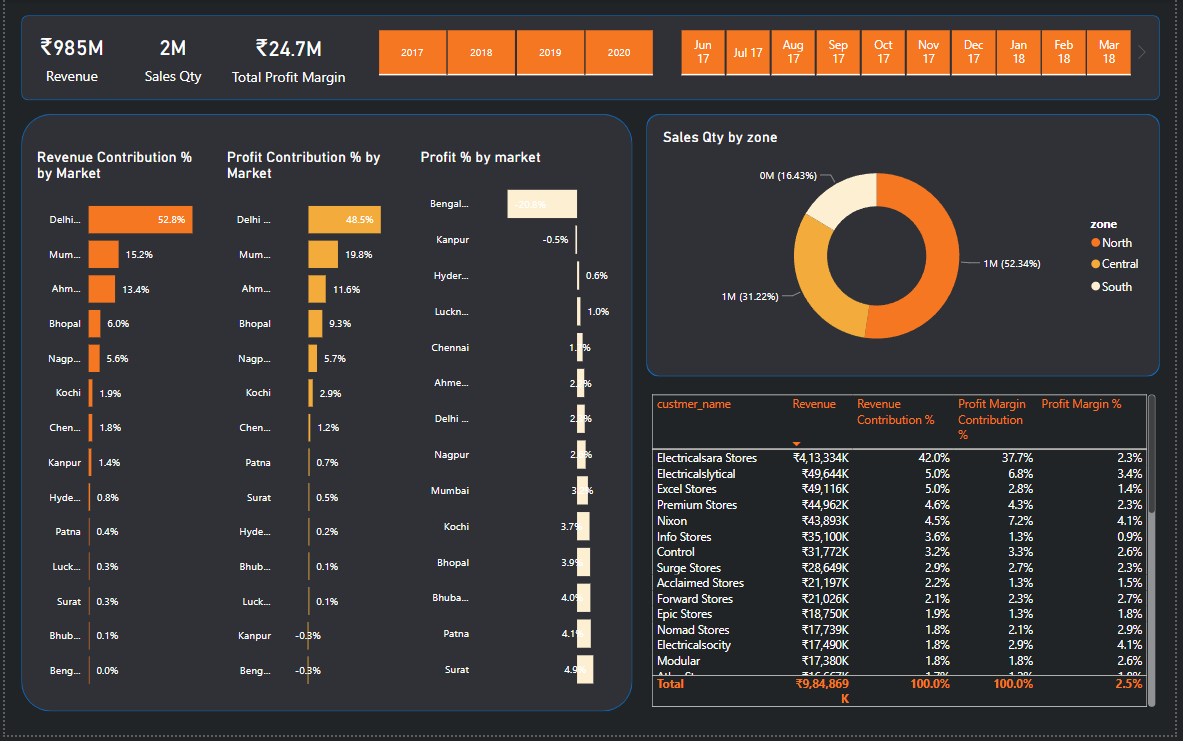

The dashboard page shown, as its layout file describes it:
{"tool":"powerbi","page":{"name":"Profit Analysis","canvas":[1350,850],"ordinal":1},"visuals":[{"type":"shape","box":[740.3,132.8,593.1,303.1],"z":0},{"type":"shape","box":[18.8,132.8,705.7,689.8],"z":1000},{"type":"shape","box":[18.8,18.8,1314.7,98.1],"z":2000},{"type":"card","fields":{"Values":["BaseMeasures (2).Revenue"]},"box":[31.7,28.9,90.9,75],"z":3000},{"type":"card","fields":{"Values":["BaseMeasures (2).Sales Qty"]},"box":[153,28.9,82.3,75],"z":4000},{"type":"barChart","title":"Profit % by market","fields":{"Y":["BaseMeasures (2).Profit Margin %"],"Category":["sales markets.markets_name"]},"box":[474.8,171.7,229.5,640.7],"z":5000},{"type":"barChart","title":"Profit Contribution % by Market","fields":{"Y":["BaseMeasures (2).Profit Margin Contribution %"],"Category":["sales markets.markets_name"]},"box":[251.1,171.7,207.8,640.7],"z":6000},{"type":"slicer","fields":{"Values":["sales date.year"]},"box":[405.5,28.9,366.6,66.4],"z":7000},{"type":"slicer","fields":{"Values":["sales date.cy_date"]},"box":[754.8,28.9,568.6,66.4],"z":8000},{"type":"tableEx","title":"Top 5 Customers","fields":{"Values":["sales customers.custmer_name","BaseMeasures (2).Revenue","BaseMeasures (2).Revenue Contribution %","BaseMeasures (2).Profit Margin Contribution %","BaseMeasures (2).Profit Margin %"]},"box":[740.3,451.7,593.1,370.9],"z":9000},{"type":"card","fields":{"Values":["BaseMeasures (2).Total Profit Margin"]},"box":[249.7,30.3,155.9,75],"z":10000},{"type":"barChart","title":"Revenue Contribution % by Market","fields":{"Y":["BaseMeasures (2).Revenue Contribution %"],"Category":["sales markets.markets_name"]},"box":[31.7,171.7,206.4,640.7],"z":11000},{"type":"donutChart","fields":{"Y":["BaseMeasures (2).Sales Qty"],"Category":["sales markets.zone"]},"box":[754.8,148.6,568.6,277.1],"z":12000}]}

Visuals, with their boxes in screenshot pixels (x1, y1, x2, y2), scaled from the page's 1350x850 canvas onto the 1183x741 screenshot:
shape: [left=649, top=116, right=1168, bottom=380]
shape: [left=16, top=116, right=635, bottom=717]
shape: [left=16, top=16, right=1169, bottom=102]
card - BaseMeasures (2).Revenue: [left=28, top=25, right=107, bottom=91]
card - BaseMeasures (2).Sales Qty: [left=134, top=25, right=206, bottom=91]
"Profit % by market" barChart: [left=416, top=150, right=617, bottom=708]
"Profit Contribution % by Market" barChart: [left=220, top=150, right=402, bottom=708]
slicer - sales date.year: [left=355, top=25, right=677, bottom=83]
slicer - sales date.cy_date: [left=661, top=25, right=1160, bottom=83]
"Top 5 Customers" tableEx: [left=649, top=394, right=1168, bottom=717]
card - BaseMeasures (2).Total Profit Margin: [left=219, top=26, right=355, bottom=92]
"Revenue Contribution % by Market" barChart: [left=28, top=150, right=209, bottom=708]
donutChart - BaseMeasures (2).Sales Qty x sales markets.zone: [left=661, top=130, right=1160, bottom=371]
